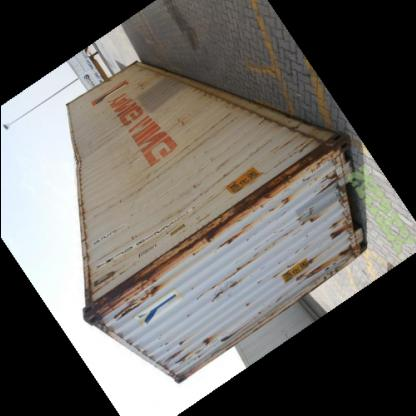Damage: (219, 144, 340, 258), (96, 233, 164, 341), (174, 332, 217, 356)
